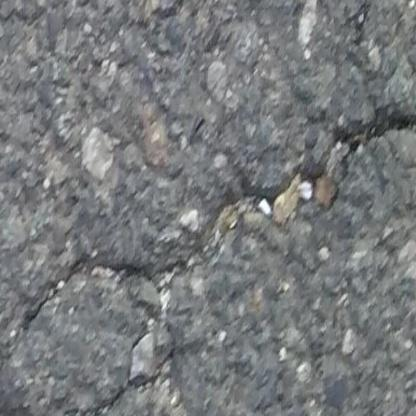Cracks: (0, 97, 416, 416), (176, 407, 238, 416), (172, 0, 216, 11)
